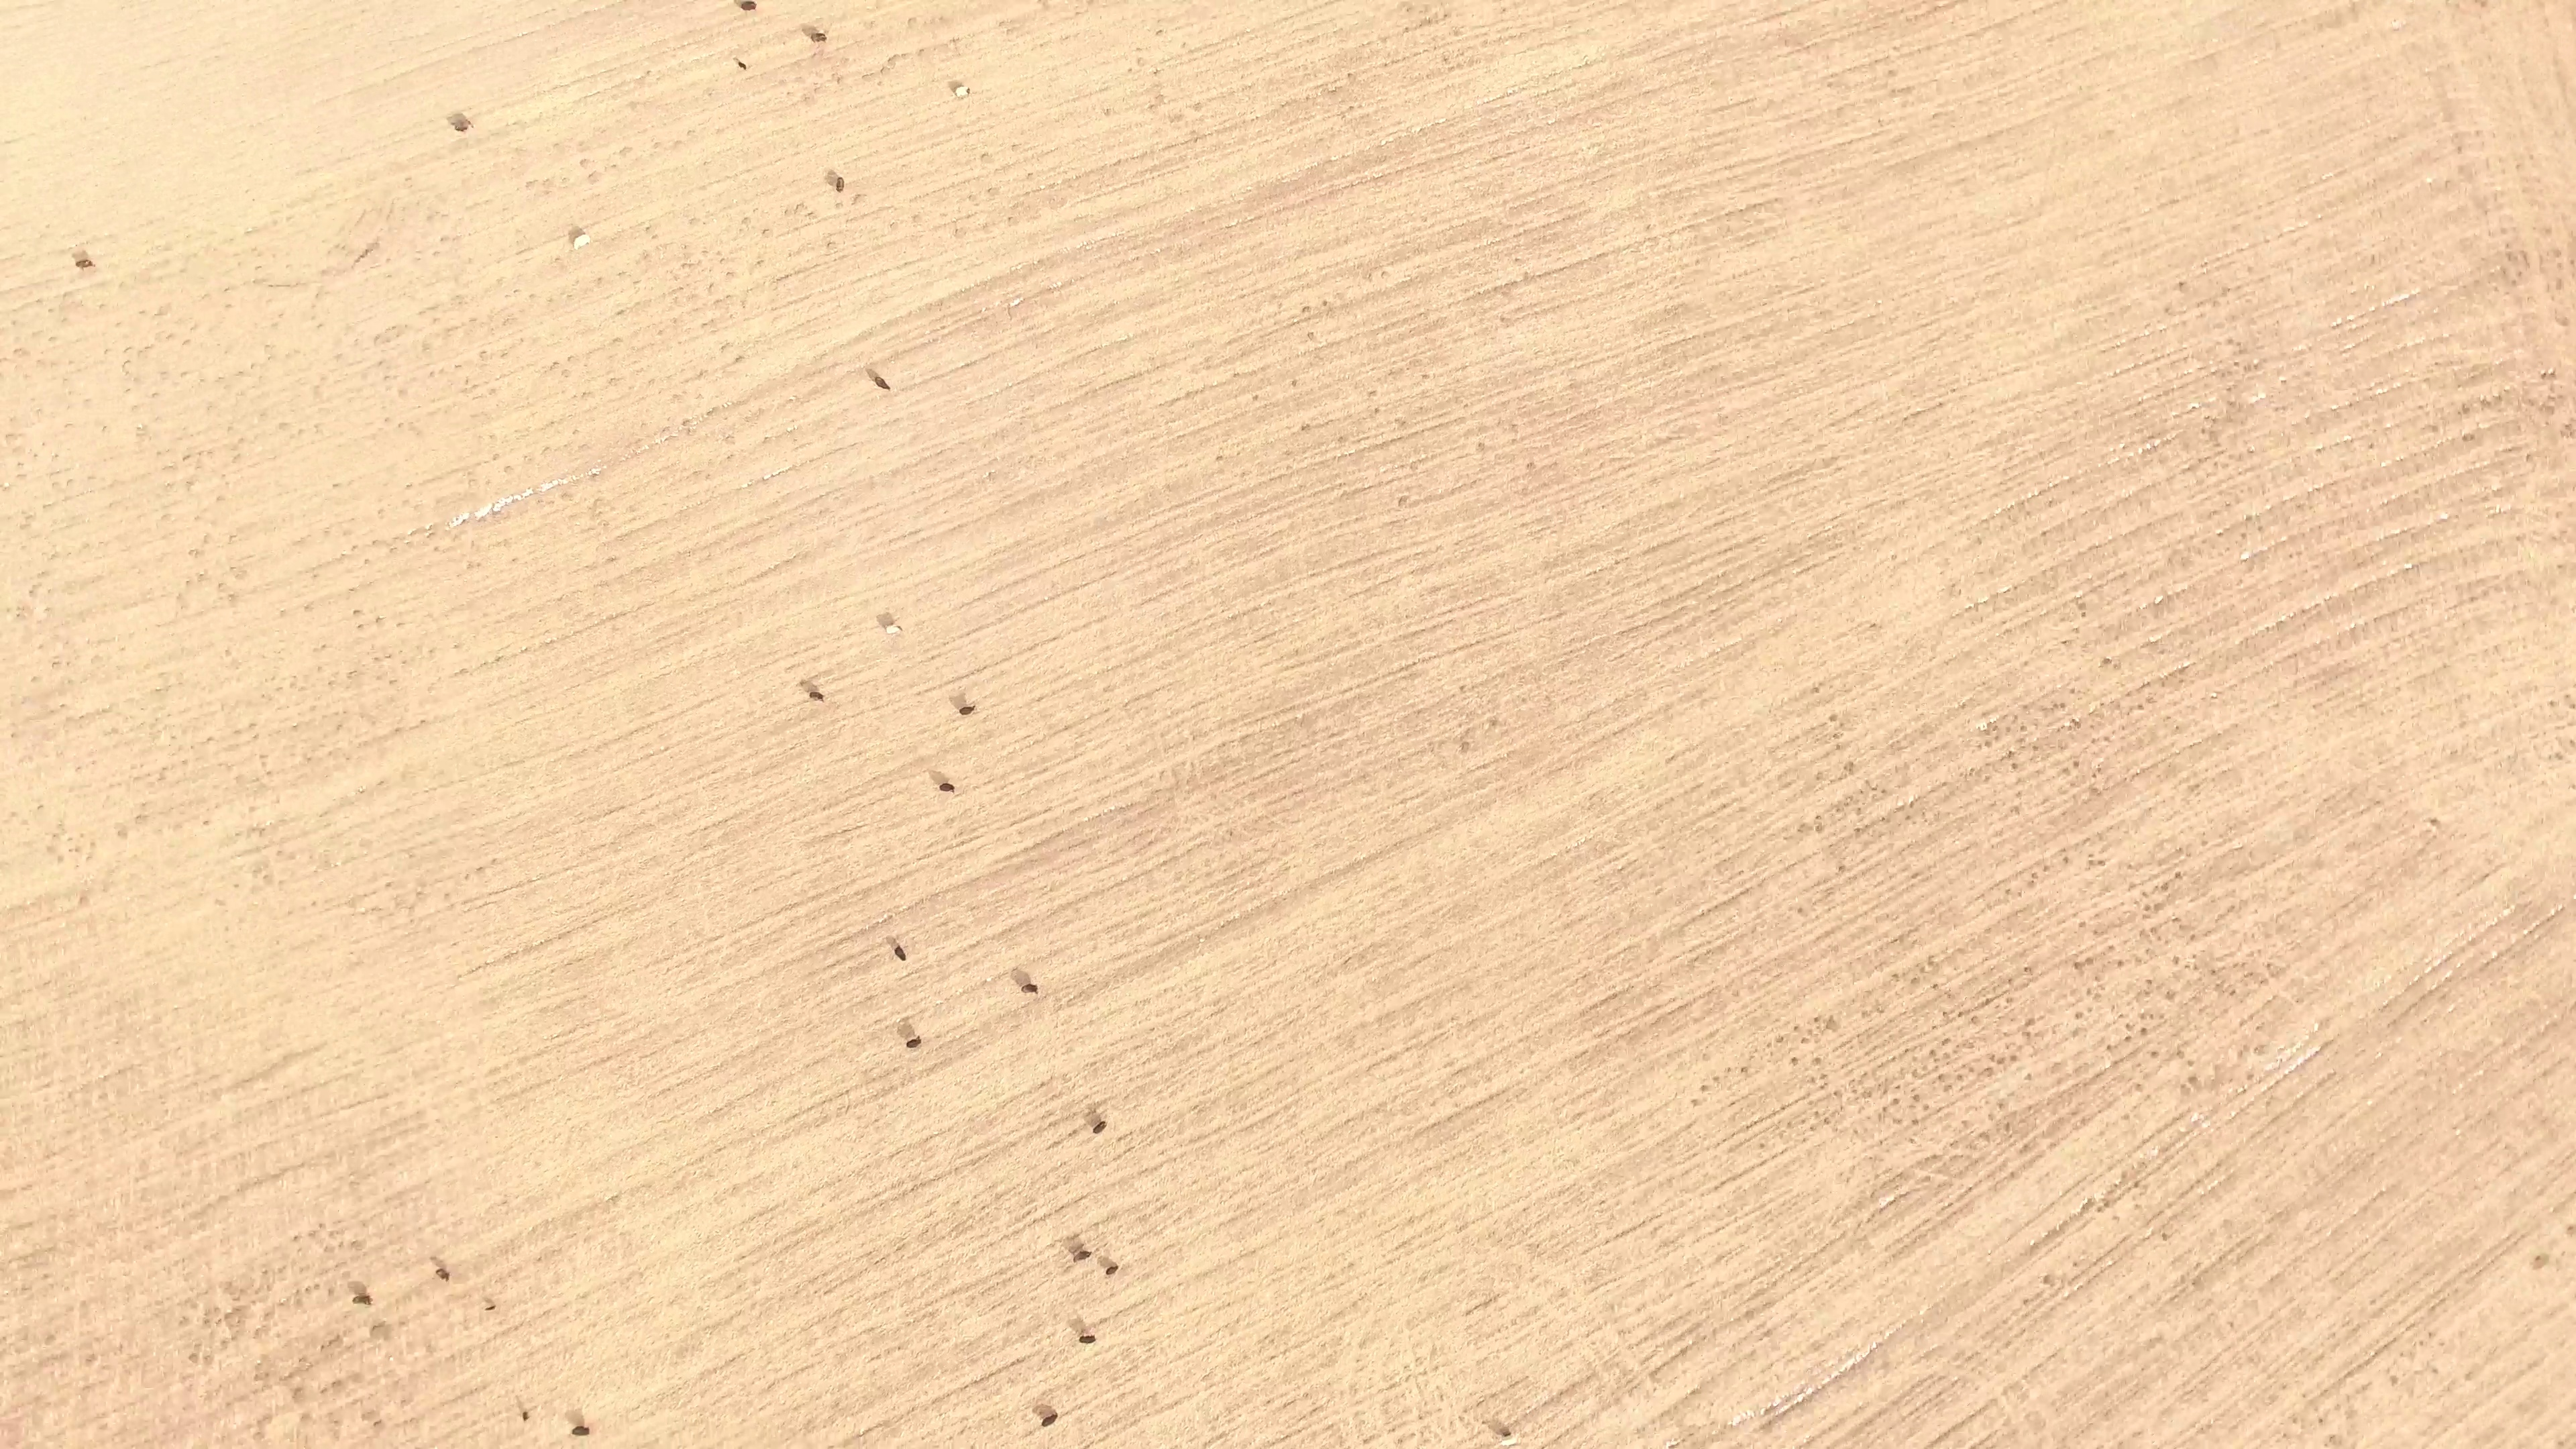sheep: (888, 937, 913, 967), (449, 113, 478, 138), (933, 777, 961, 800), (568, 1419, 593, 1444), (1102, 1258, 1126, 1282), (902, 1031, 927, 1054), (1089, 1117, 1113, 1137), (1038, 1409, 1065, 1430), (1071, 1245, 1097, 1266), (1017, 979, 1044, 998), (1077, 1328, 1101, 1350), (351, 1290, 375, 1309), (571, 229, 592, 251), (431, 1264, 453, 1283), (868, 373, 892, 392), (882, 619, 904, 639), (72, 254, 96, 272), (833, 172, 850, 197), (806, 29, 830, 45), (806, 686, 826, 704), (733, 1, 759, 14), (957, 701, 977, 718), (952, 83, 971, 99), (519, 1407, 532, 1424), (482, 1298, 498, 1316), (735, 59, 749, 71)
unknown: (2042, 1218, 2071, 1242), (1486, 1421, 1514, 1440), (2532, 1252, 2551, 1271), (221, 1305, 243, 1322), (2078, 1195, 2097, 1215), (1499, 1435, 1519, 1448), (1823, 1015, 1838, 1032), (1761, 1403, 1777, 1418), (290, 1384, 305, 1401), (370, 1320, 388, 1334), (1741, 1307, 1757, 1321), (2190, 1274, 2204, 1289), (2040, 1273, 2053, 1287), (2027, 1240, 2041, 1255), (2185, 1073, 2200, 1087), (2023, 1016, 2037, 1029), (1978, 996, 1994, 1010), (2070, 959, 2086, 973), (2068, 716, 2084, 731), (360, 245, 375, 259), (2460, 431, 2477, 445), (2388, 1373, 2400, 1387), (1677, 1345, 1690, 1358), (2159, 1230, 2170, 1244), (2100, 1197, 2113, 1211), (1978, 1130, 1992, 1142), (2002, 1120, 2013, 1134), (1994, 1055, 2008, 1067), (2007, 1053, 2020, 1065), (2137, 1024, 2150, 1038), (2163, 991, 2177, 1003), (1908, 975, 1921, 987), (2082, 955, 2096, 968), (2151, 900, 2165, 914), (2171, 869, 2184, 881), (2428, 816, 2442, 828), (1827, 712, 1840, 724), (2100, 655, 2114, 667), (2075, 600, 2089, 612), (2238, 550, 2252, 562), (2459, 405, 2473, 417), (1688, 1387, 1703, 1398), (1934, 1433, 1947, 1445), (371, 1417, 384, 1429), (333, 1377, 345, 1389), (2345, 1368, 2357, 1379), (1890, 1095, 1902, 1108), (1911, 1091, 1923, 1104), (1983, 1065, 1996, 1078), (1812, 1055, 1824, 1067), (1927, 1047, 1939, 1059), (2122, 1033, 2134, 1045), (1811, 1014, 1823, 1026), (2114, 958, 2126, 969), (1925, 958, 1937, 969), (1895, 932, 1907, 945), (2158, 881, 2171, 894), (1845, 759, 1857, 771), (2553, 750, 2566, 763), (1982, 739, 1993, 749), (1489, 717, 1500, 729), (2255, 390, 2268, 401), (2020, 1141, 2032, 1155), (2543, 403, 2556, 413), (45, 1332, 57, 1343), (1760, 1329, 1772, 1340), (381, 1328, 391, 1339), (2131, 1178, 2143, 1191), (1922, 1173, 1933, 1184), (270, 1171, 282, 1181), (2007, 1169, 2018, 1181), (1929, 1152, 1941, 1163), (1486, 1092, 1497, 1104), (1698, 1082, 1711, 1094), (2244, 1071, 2255, 1083), (2148, 1049, 2159, 1060), (1941, 1036, 1951, 1047), (1773, 1035, 1786, 1046), (2074, 1010, 2086, 1020), (1606, 992, 1619, 1003), (2208, 967, 2219, 979), (2094, 857, 2106, 868), (2061, 855, 2072, 866), (2088, 786, 2100, 796), (2070, 759, 2082, 770), (2030, 743, 2041, 754), (1460, 739, 1471, 749), (2057, 700, 2068, 711), (2176, 665, 2188, 678), (2438, 511, 2450, 521), (2562, 422, 2573, 433), (1289, 378, 1299, 389), (2477, 1, 2489, 10), (2557, 1438, 2567, 1448), (1360, 1436, 1372, 1447), (2326, 1433, 2338, 1444), (1941, 1430, 1951, 1440), (2316, 1415, 2326, 1426), (2290, 1415, 2300, 1426), (1783, 1394, 1793, 1405), (2463, 1371, 2473, 1382), (262, 1370, 272, 1380), (1647, 1368, 1658, 1381), (1848, 1362, 1859, 1373), (2363, 1357, 2373, 1367), (186, 1352, 197, 1362), (87, 1352, 98, 1362), (325, 1338, 336, 1348), (1464, 1307, 1474, 1318), (1481, 1298, 1492, 1309), (1752, 1290, 1762, 1300), (2565, 1223, 2576, 1234), (2094, 1204, 2106, 1215), (2118, 1171, 2129, 1181), (1757, 1140, 1767, 1151), (1909, 1117, 1919, 1128), (1880, 1104, 1890, 1114), (1921, 1103, 1931, 1113), (1996, 1100, 2006, 1110), (1690, 1096, 1701, 1108), (1941, 1083, 1951, 1094), (2178, 1081, 2188, 1091), (1711, 1074, 1722, 1084), (2025, 1072, 2035, 1082), (1954, 1072, 1966, 1083), (1935, 1071, 1947, 1083), (1966, 1065, 1976, 1075), (2185, 1058, 2196, 1069), (2295, 1055, 2306, 1065), (1788, 1055, 1800, 1066), (2104, 1042, 2114, 1053), (1799, 1035, 1809, 1046), (2023, 1029, 2033, 1040), (2070, 1028, 2081, 1038), (2123, 1022, 2133, 1032), (2147, 1011, 2157, 1021), (1955, 1009, 1966, 1019), (2213, 981, 2223, 991), (2144, 977, 2155, 987), (1891, 971, 1902, 981), (2021, 965, 2031, 975), (2171, 955, 2182, 965), (2137, 928, 2147, 938), (2090, 928, 2100, 938), (2076, 920, 2087, 930), (2500, 907, 2511, 918), (2002, 887, 2012, 897), (2025, 878, 2037, 889), (1909, 871, 1920, 881), (2041, 863, 2051, 873), (2086, 857, 2097, 869), (1883, 816, 1893, 826), (1903, 812, 1914, 823), (2012, 804, 2022, 815), (1897, 803, 1907, 813), (2009, 760, 2021, 772), (2004, 750, 2015, 761), (1833, 742, 1843, 753), (2135, 702, 2146, 712), (2051, 701, 2061, 711), (1812, 685, 1822, 696), (2078, 609, 2089, 620), (2164, 592, 2174, 604), (2039, 529, 2049, 539), (2243, 513, 2255, 524), (2429, 423, 2440, 434), (1372, 406, 1382, 416), (1935, 400, 1945, 410), (2538, 371, 2548, 382), (2547, 370, 2559, 381), (2231, 359, 2242, 369), (733, 354, 743, 364), (2560, 319, 2570, 329), (1320, 298, 1330, 308), (2176, 279, 2186, 290), (2504, 250, 2514, 260), (2455, 144, 2465, 154), (1813, 823, 1823, 835), (1415, 1413, 1426, 1423), (1806, 1392, 1816, 1403), (286, 1371, 296, 1381), (2371, 1349, 2381, 1359), (2381, 1342, 2391, 1352), (333, 1334, 343, 1344), (203, 1316, 213, 1326), (1099, 1316, 1110, 1326), (2020, 1297, 2030, 1307), (2178, 1275, 2188, 1286), (2070, 1259, 2080, 1269), (2214, 1160, 2224, 1170), (1070, 1127, 1080, 1137), (1784, 1120, 1794, 1130), (1831, 1089, 1841, 1099), (2133, 1081, 2143, 1092), (1942, 1051, 1952, 1061), (2173, 1049, 2184, 1059), (2321, 1040, 2331, 1050), (1805, 1027, 1815, 1037), (1790, 1024, 1801, 1034), (2409, 1000, 2419, 1010), (2425, 989, 2435, 999), (2084, 987, 2094, 998), (1917, 965, 1927, 976), (1823, 928, 1833, 938), (1795, 906, 1805, 916), (2142, 903, 2152, 914), (1837, 863, 1848, 873), (1160, 858, 1170, 868), (2060, 765, 2071, 775), (2568, 739, 2576, 749), (2017, 723, 2027, 733), (2567, 701, 2576, 711), (2547, 698, 2557, 709), (2068, 686, 2078, 696), (2158, 680, 2168, 690), (227, 591, 237, 601), (589, 470, 599, 480), (2378, 460, 2388, 470), (1298, 423, 1308, 433), (2478, 398, 2488, 408), (2249, 394, 2259, 404), (2236, 347, 2246, 357), (2567, 257, 2576, 267), (1666, 1442, 1678, 1449), (2176, 845, 2186, 855), (1907, 794, 1917, 804), (1832, 732, 1842, 742), (2198, 426, 2208, 436), (2229, 399, 2239, 409), (2245, 364, 2255, 374), (1968, 1444, 1979, 1449)
